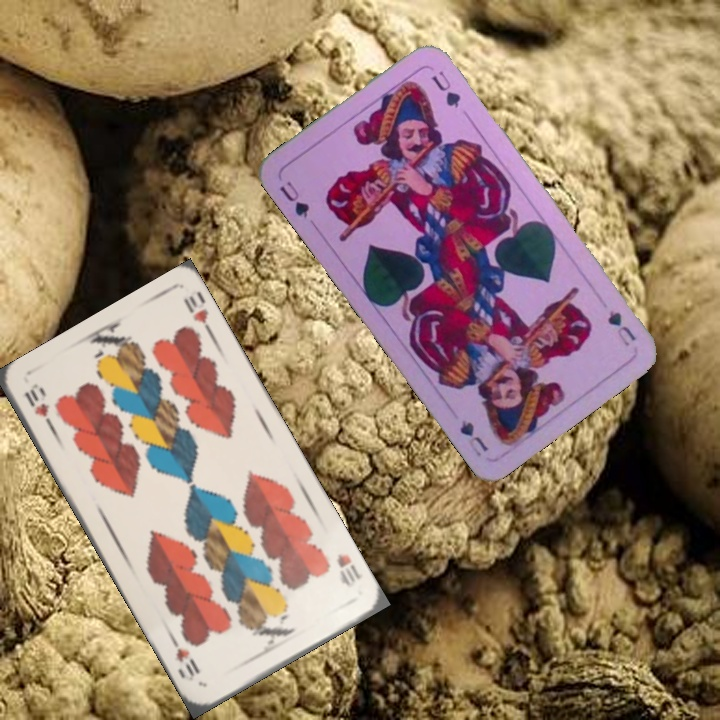GU: (275, 176, 312, 221), (603, 305, 638, 349)
H10: (20, 380, 58, 435), (332, 550, 365, 590)
